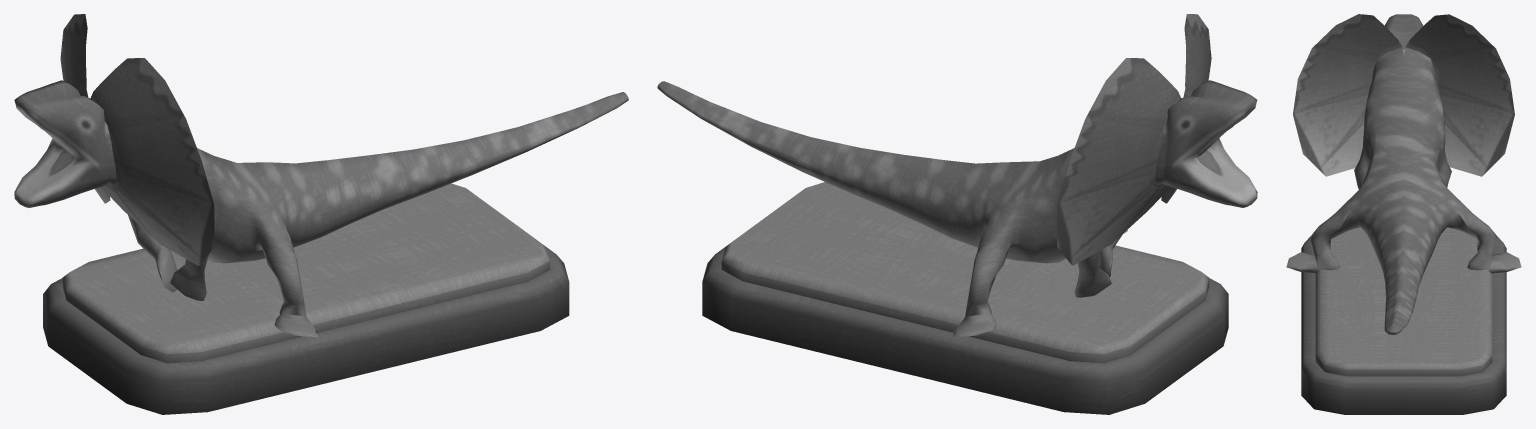
The model's file is FrillyStatueHand.fbx.
The picture shows the model from 3 angles, left to right: view 1: azimuth 30°, elevation 25°; view 2: azimuth 150°, elevation 25°; view 3: azimuth 270°, elevation 25°; orthographic projection. The views are drawn at different scales.
Visible parts, largest first — view 1: BunyipStatue (4), BunyipStatue (2); view 2: BunyipStatue (4), BunyipStatue (2); view 3: BunyipStatue (2), BunyipStatue (4).
Boxes of the visible parts, x1,y1,x2,y2 form: BunyipStatue (4): [43, 183, 569, 414]; BunyipStatue (2): [14, 14, 628, 337]; BunyipStatue (4): [702, 182, 1228, 414]; BunyipStatue (2): [657, 14, 1257, 337]; BunyipStatue (2): [1286, 14, 1521, 334]; BunyipStatue (4): [1301, 227, 1506, 414].
Size of the model in its own units: 1.69 by 0.893 by 0.7616.
